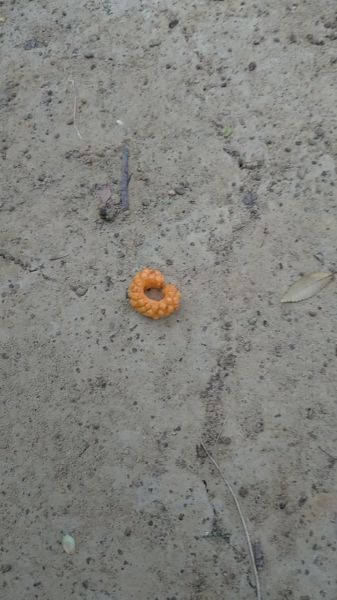eggs: (128, 266, 181, 323)
